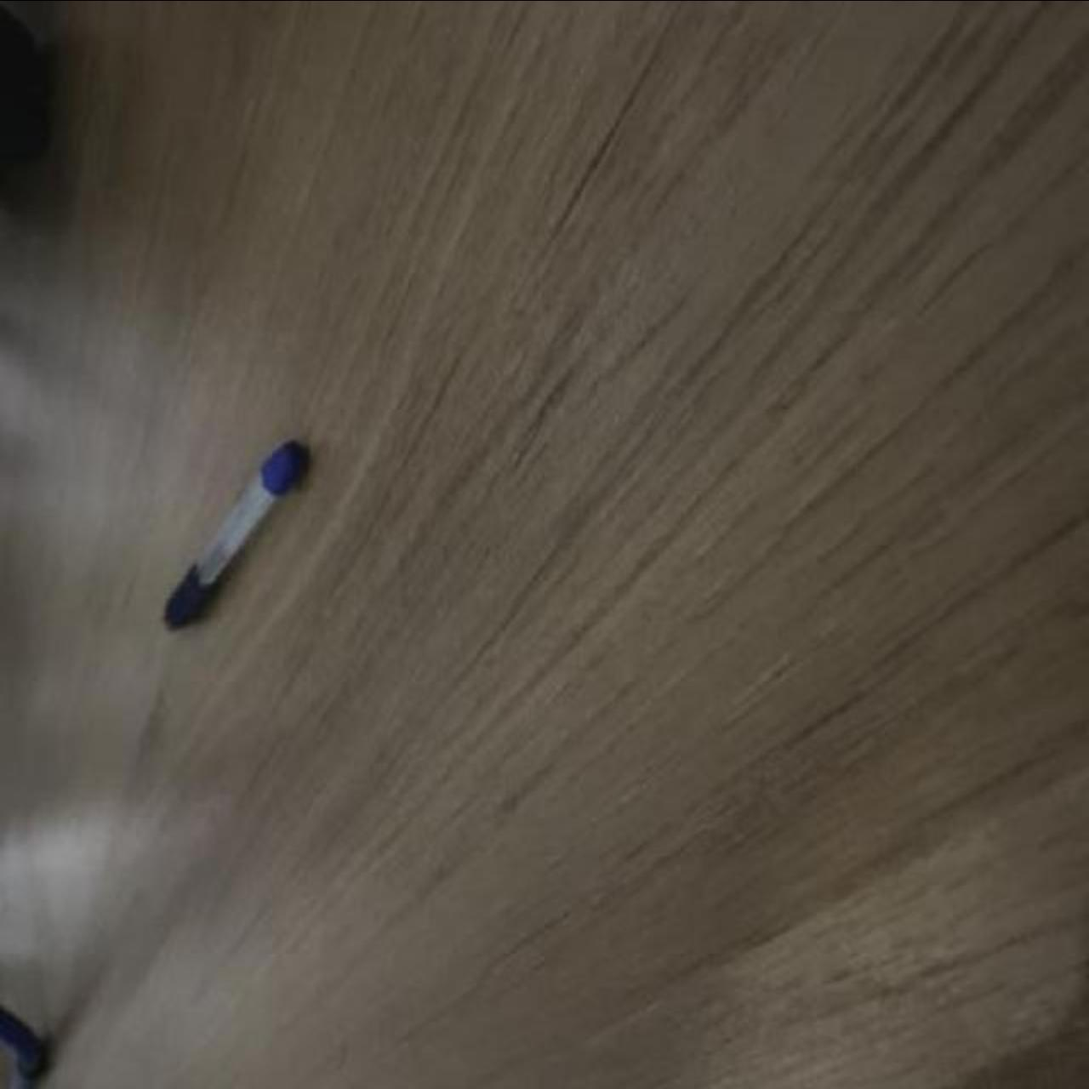pen: (157, 434, 305, 636)
